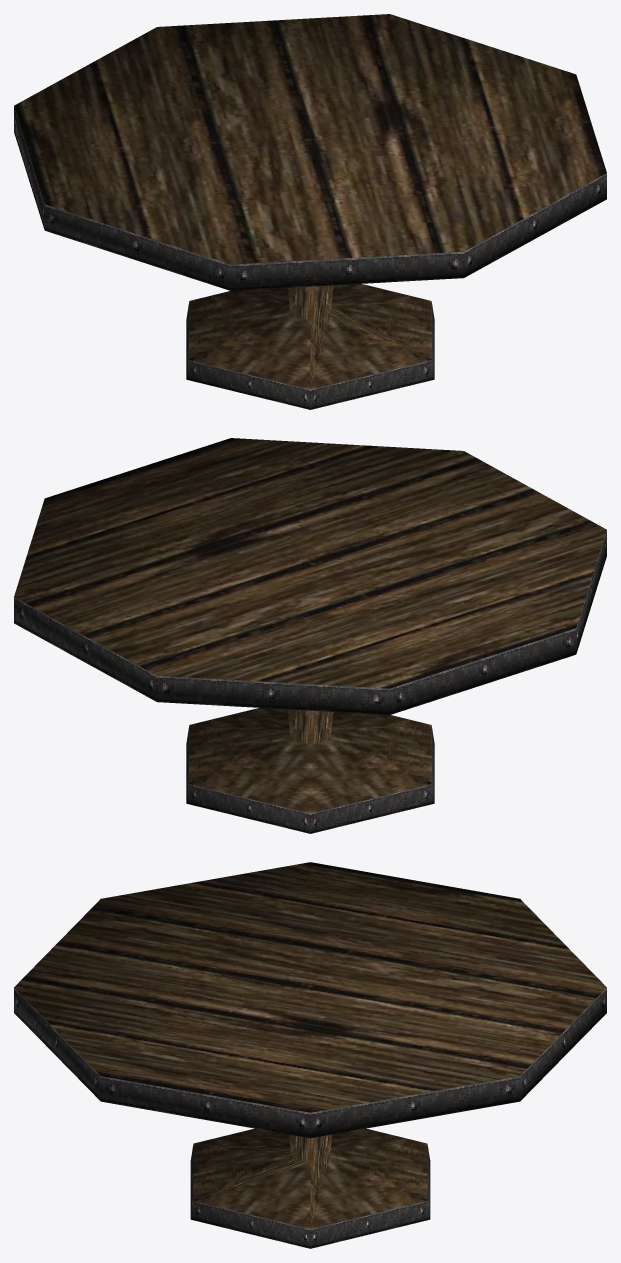
Rendered from DT_TABLE_01.glb.
3 renders of one model, top to bottom at view 1: azimuth 30°, elevation 25°; view 2: azimuth 150°, elevation 25°; view 3: azimuth 270°, elevation 25°, orthographic. The views are drawn at different scales.
Parts seen in each view (by area): view 1: Mesh; view 2: Mesh; view 3: Mesh.
Part boxes in pixels (<box>): Mesh: <box>14,14,606,409</box>; Mesh: <box>14,438,606,833</box>; Mesh: <box>14,862,606,1248</box>.
Bounding box in the file's own units: 2.1 × 0.7932 × 2.1.
2 materials, 2 textured.
